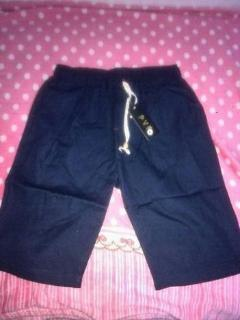shorts: (0, 64, 239, 290)
